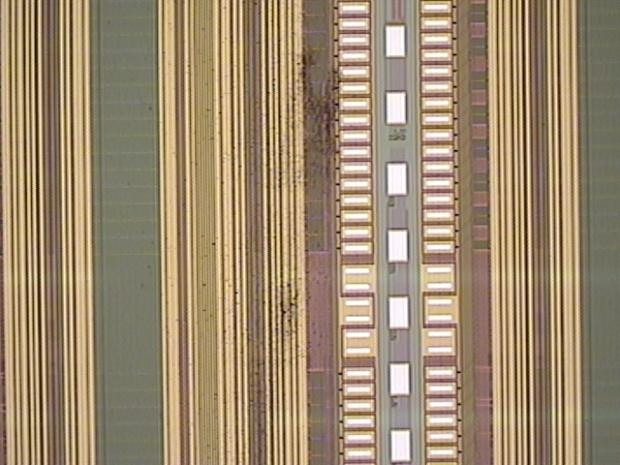PO CONTAMINATION: (180, 23, 342, 453)
